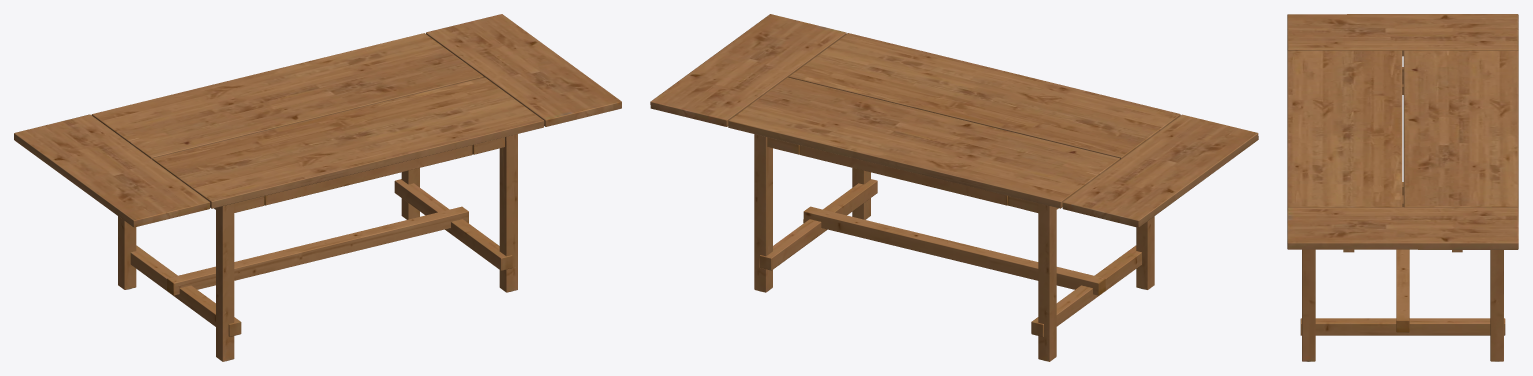
3 views of the same model, side by side, from view 1: azimuth 30°, elevation 25°; view 2: azimuth 150°, elevation 25°; view 3: azimuth 270°, elevation 25° (orthographic). The views are drawn at different scales.
Visible parts, largest first — view 1: 80488544-NORDVIKEN001.001; view 2: 80488544-NORDVIKEN001.001; view 3: 80488544-NORDVIKEN001.001.
Boxes of the visible parts, x1,y1,x2,y2 form: 80488544-NORDVIKEN001.001: (14, 14, 621, 361); 80488544-NORDVIKEN001.001: (650, 14, 1258, 361); 80488544-NORDVIKEN001.001: (1287, 14, 1518, 361).
Size of the model in its own units: 2.23 by 0.7473 by 0.95.
Materials: 1 (1 with a texture image).
